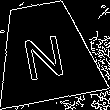N_N: (21, 24, 71, 81)
